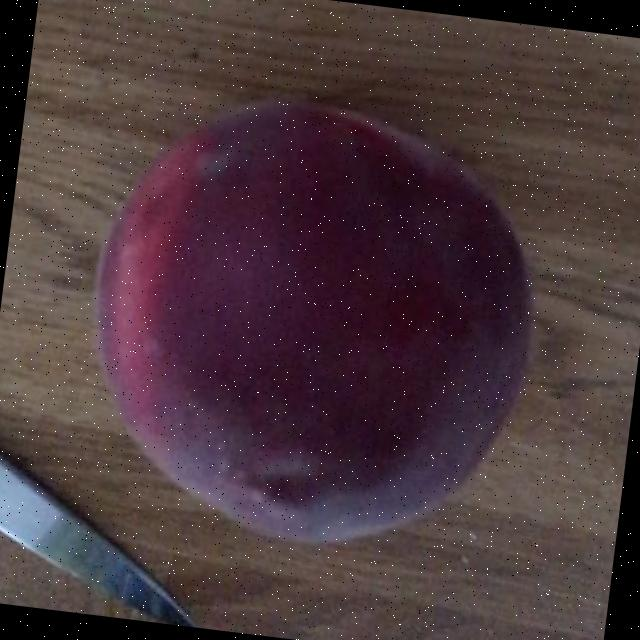peach: (106, 107, 529, 534)
